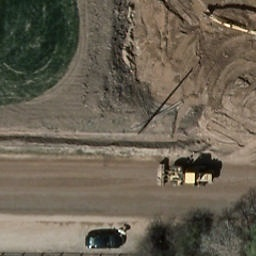car: (84, 230, 125, 248)
other: (154, 162, 216, 190)
